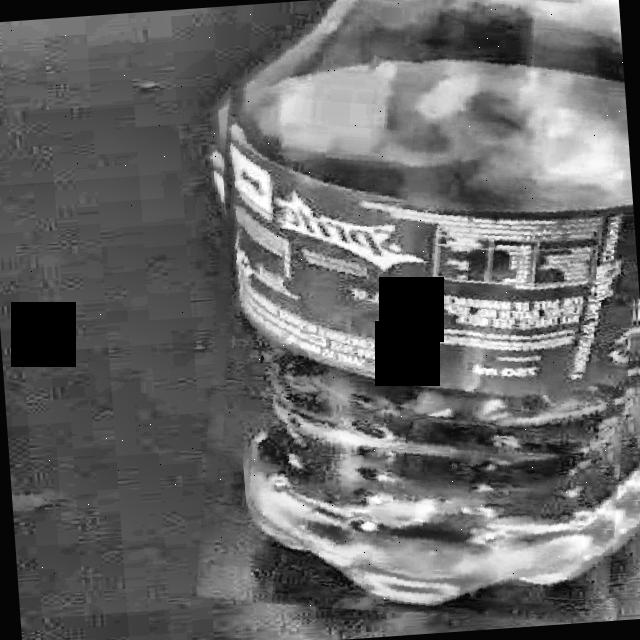bottle: (228, 0, 636, 611)
